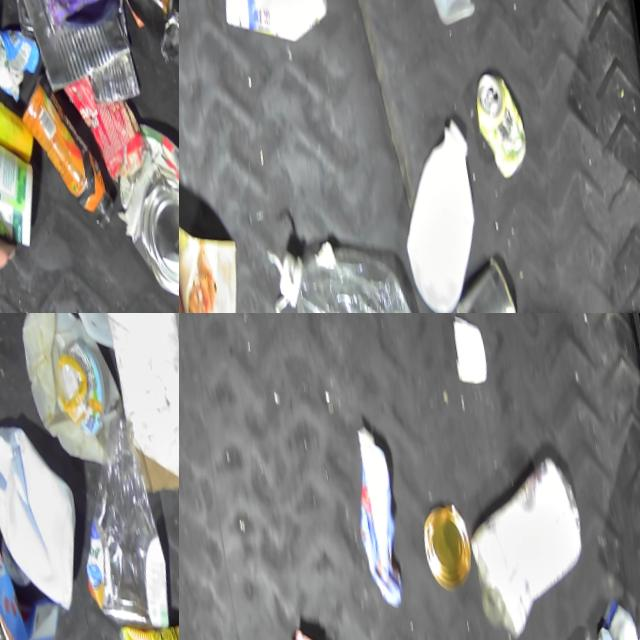can: (106, 97, 179, 311), (0, 0, 141, 99), (469, 55, 537, 176), (419, 492, 480, 588), (449, 238, 527, 313), (88, 41, 143, 103)
milk_jug: (387, 99, 496, 313), (0, 410, 93, 620), (13, 313, 133, 470)
non_white_jug: (344, 412, 412, 604), (15, 0, 136, 41)
plastic_bottle: (64, 405, 179, 634), (263, 212, 430, 313)
